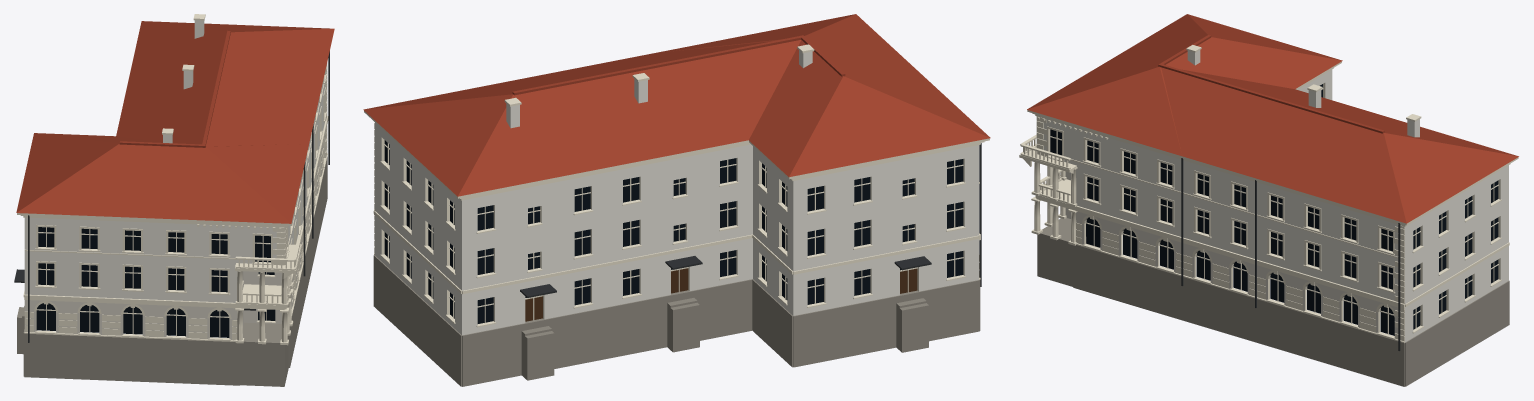
The model's file is nahimova12.glb.
The picture shows the model from 3 angles, left to right: view 1: azimuth 30°, elevation 25°; view 2: azimuth 150°, elevation 25°; view 3: azimuth 270°, elevation 25°; orthographic projection. The views are drawn at different scales.
Parts seen in each view (by area): view 1: nahimova12_roof, nahimova12_trim, nahimova12_stone, nahimova12_wall, nahimova12_glass, nahimova12_wall2, nahimova12_trim_s, nahimova12_metal; view 2: nahimova12_wall, nahimova12_roof, nahimova12_stone, nahimova12_trim, nahimova12_glass, nahimova12_metal, nahimova12_wood; view 3: nahimova12_roof, nahimova12_wall, nahimova12_trim, nahimova12_stone, nahimova12_glass, nahimova12_wall2, nahimova12_trim_s, nahimova12_metal.
Boxes of the visible parts, x1,y1,x2,y2 form: nahimova12_roof: [16, 21, 334, 223]; nahimova12_trim: [17, 14, 328, 345]; nahimova12_stone: [17, 157, 327, 386]; nahimova12_wall: [24, 20, 325, 302]; nahimova12_glass: [36, 227, 275, 337]; nahimova12_wall2: [24, 135, 325, 340]; nahimova12_trim_s: [237, 271, 291, 342]; nahimova12_metal: [14, 51, 329, 342]; nahimova12_wall: [375, 50, 978, 335]; nahimova12_roof: [363, 14, 990, 196]; nahimova12_stone: [373, 255, 980, 386]; nahimova12_trim: [364, 44, 989, 327]; nahimova12_glass: [384, 140, 963, 323]; nahimova12_metal: [520, 143, 981, 297]; nahimova12_wood: [525, 268, 917, 321]; nahimova12_roof: [1027, 14, 1518, 223]; nahimova12_wall: [1037, 50, 1508, 342]; nahimova12_trim: [1019, 45, 1518, 342]; nahimova12_stone: [1037, 218, 1509, 386]; nahimova12_glass: [1050, 84, 1498, 335]; nahimova12_wall2: [1065, 171, 1404, 335]; nahimova12_trim_s: [1034, 162, 1076, 242]; nahimova12_metal: [1181, 158, 1400, 350].
Bounding box in the file's own units: 38.96 × 18.14 × 39.26.
